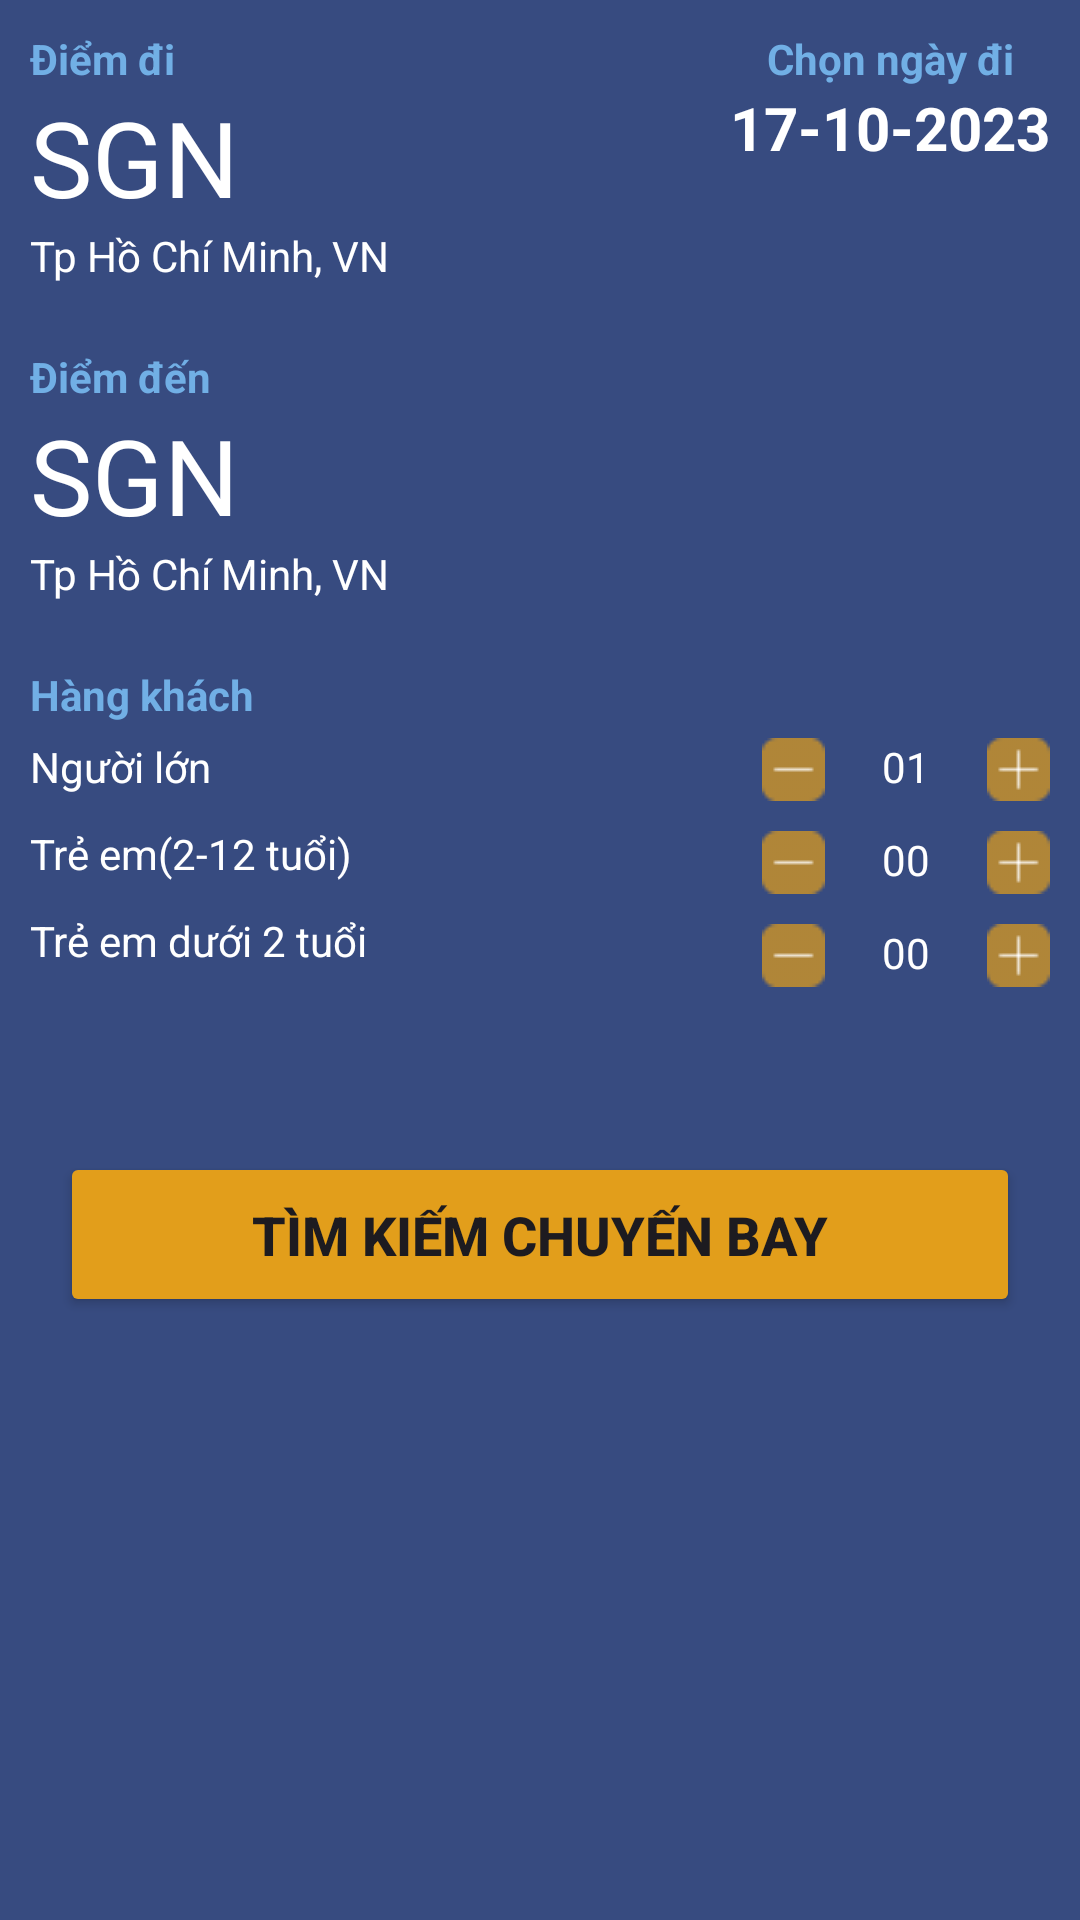

Named icons in this screenshot (1080 x 1920) and their bounding boxes, bbox=[x1, y1, x2, y2]:
minus: bbox=[762, 738, 825, 801], bbox=[762, 831, 825, 894], bbox=[762, 924, 825, 987]
plus: bbox=[987, 738, 1050, 801], bbox=[987, 831, 1050, 894], bbox=[987, 924, 1050, 987]
